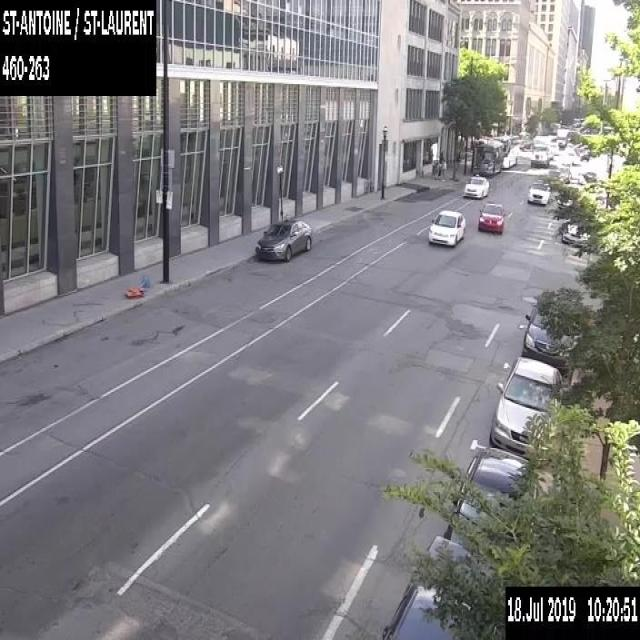bus: (472, 140, 502, 174), (489, 134, 518, 168)
construction: (124, 271, 152, 296)
pedestrian: (438, 155, 444, 180)
vehicle: (442, 446, 538, 566), (381, 534, 491, 638), (488, 354, 563, 466), (522, 305, 582, 375), (254, 217, 312, 260), (428, 208, 466, 245), (477, 200, 505, 233), (561, 222, 591, 248), (530, 134, 551, 167), (526, 180, 550, 207), (462, 173, 488, 196), (568, 158, 582, 173), (518, 140, 534, 152), (556, 135, 567, 146), (579, 148, 589, 160), (566, 131, 574, 141), (547, 148, 553, 160)
